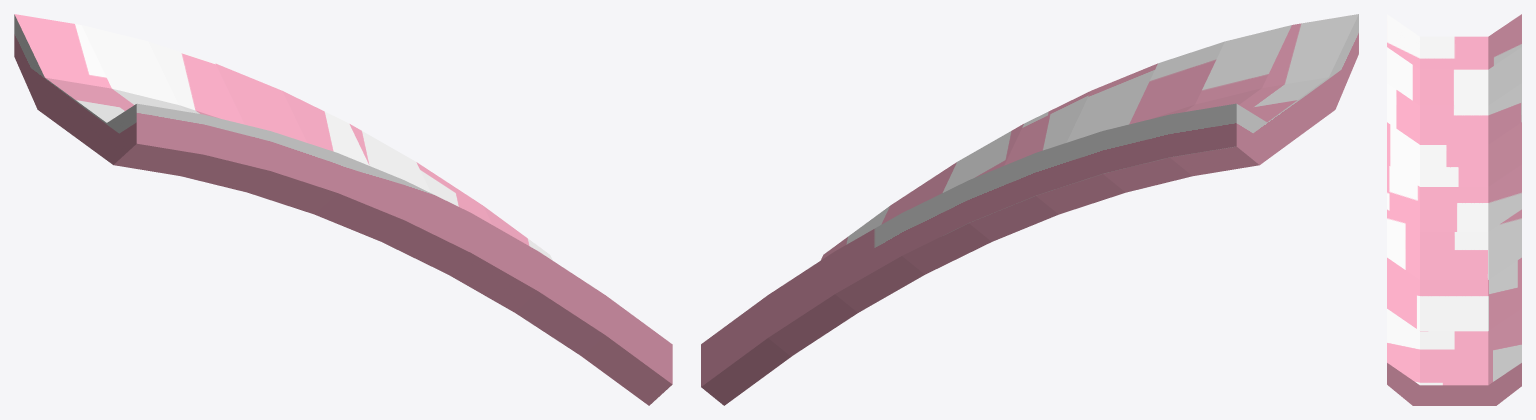
File: slide_1.fbx
3 views of the same model, side by side, from view 1: azimuth 30°, elevation 25°; view 2: azimuth 150°, elevation 25°; view 3: azimuth 270°, elevation 25° (orthographic). The views are drawn at different scales.
Parts seen in each view (by area): view 1: Cube; view 2: Cube; view 3: Cube.
Part boxes in pixels (x1,y1,x2,y2): Cube: (14,14,672,405); Cube: (701,14,1358,405); Cube: (1387,14,1521,405).
Size of the model in its own units: 205 by 165 by 81.24.
